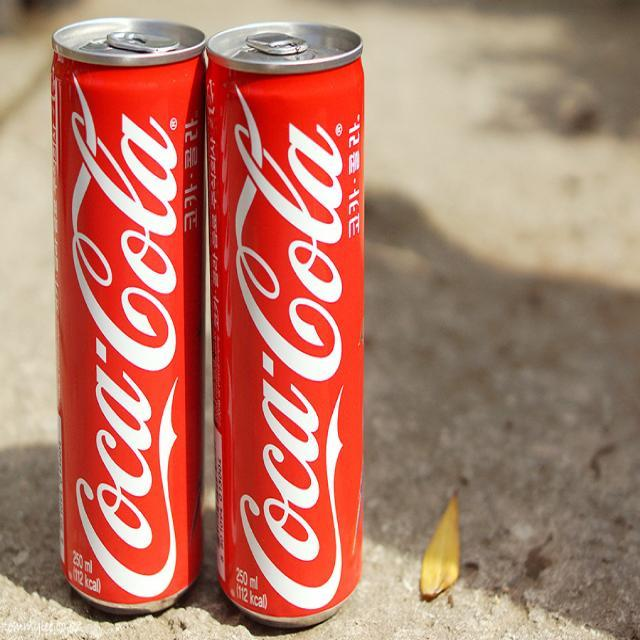coca-cola: (206, 17, 368, 628), (48, 16, 208, 616)
